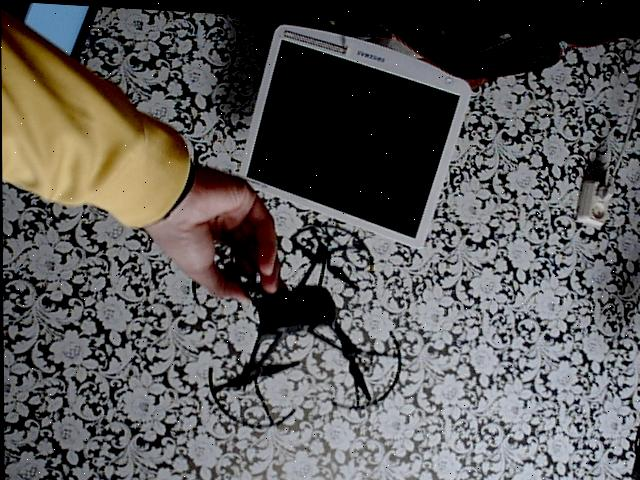drone: (187, 207, 405, 441)
